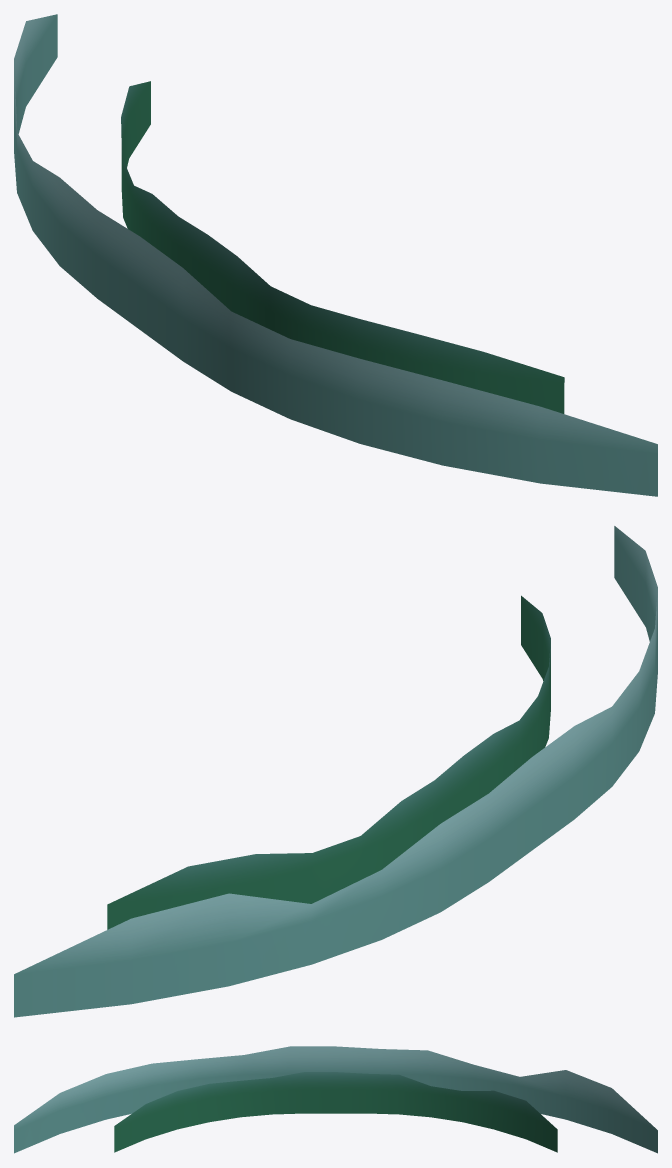
File: SM_Vista_01.fbx
3 renders of one model, top to bottom at view 1: azimuth 30°, elevation 25°; view 2: azimuth 150°, elevation 25°; view 3: azimuth 270°, elevation 25°, orthographic. The views are drawn at different scales.
Visible parts, largest first — view 1: SM_Vista_01; view 2: SM_Vista_01; view 3: SM_Vista_01.
Part boxes in pixels (<box>): SM_Vista_01: <box>14,14,657,496</box>; SM_Vista_01: <box>14,526,657,1017</box>; SM_Vista_01: <box>14,1046,657,1153</box>.
Bounding box in the file's own units: 24.46 × 10.05 × 117.
